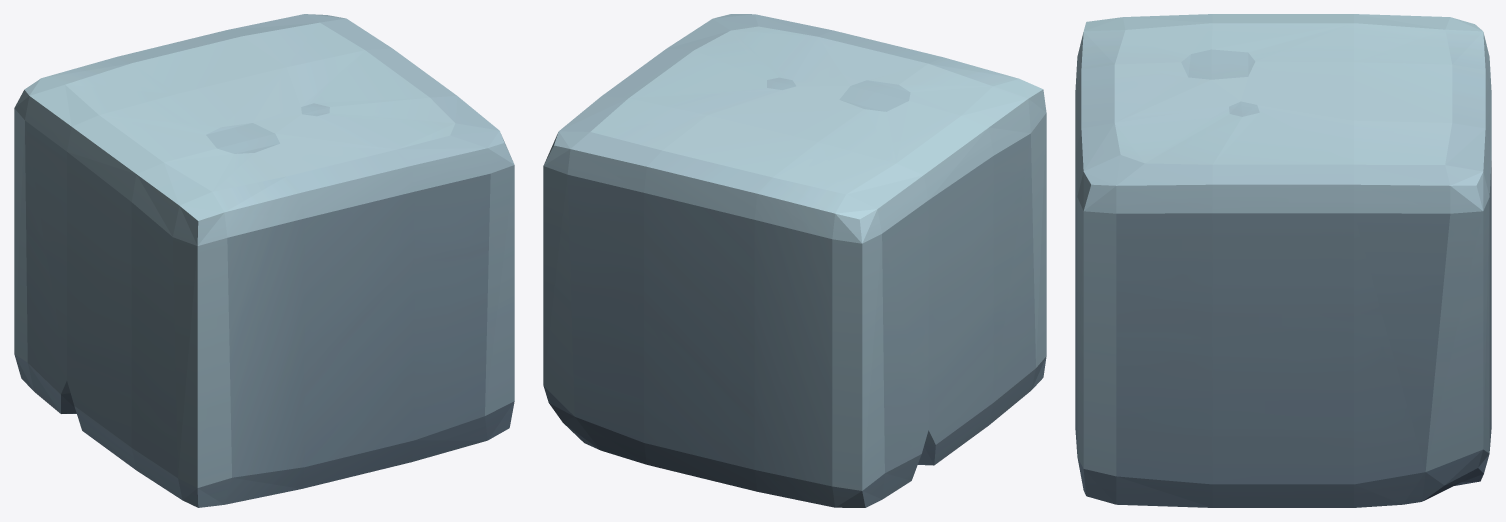
The model's file is Block.fbx.
3 views of the same model, side by side, from view 1: azimuth 30°, elevation 25°; view 2: azimuth 150°, elevation 25°; view 3: azimuth 270°, elevation 25° (orthographic). The views are drawn at different scales.
Visible parts, largest first — view 1: Stone_block5; view 2: Stone_block5; view 3: Stone_block5.
Part boxes in pixels (x1=…): Stone_block5: x1=14, y1=14, x2=514, y2=507; Stone_block5: x1=543, y1=14, x2=1046, y2=507; Stone_block5: x1=1075, y1=14, x2=1491, y2=507.
Bounding box in the file's own units: 2.09 × 1.88 × 2.1.
Materials: 1 (1 with a texture image).
